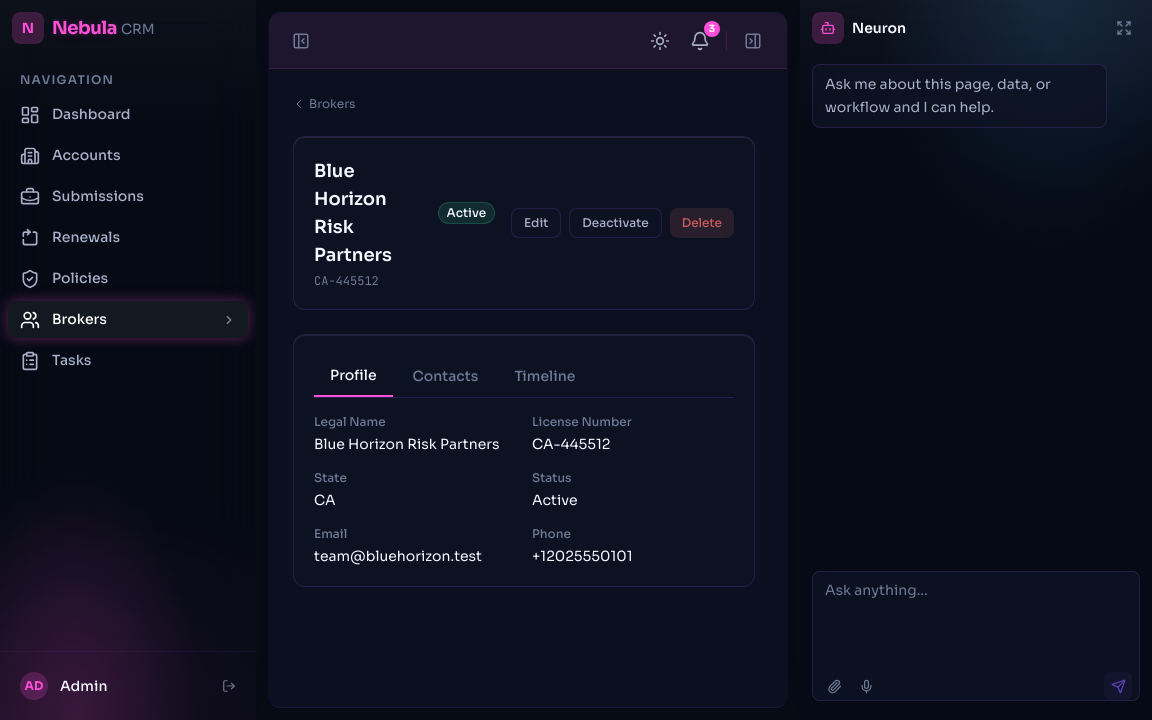
it: BrokerDetailPage integration › loads the broker profile and updates broker details from the edit modal
Expected: the heading "Blue Horizon Risk Partners" is shown, [314,160,392,266]
Expected: the text "CA-445512" is shown 2 times, [314,273,379,289]; [532,435,610,453]
Click the button "Edit" at (536, 223), box [511,208,561,238]
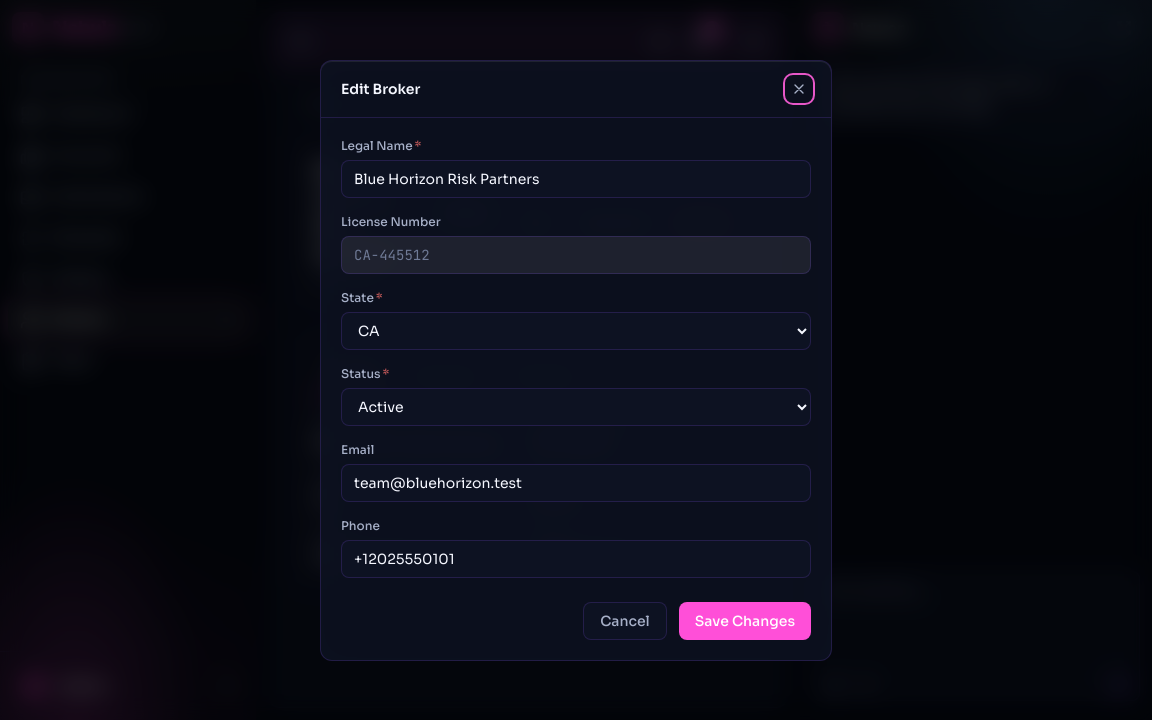
Result: the dialog "Edit Broker" is shown at [320,60,832,660]
Replace the text in the field labelled "Legal Name*" with "Blue Horizon Specialty" at (576, 178), box [341,160,811,198]
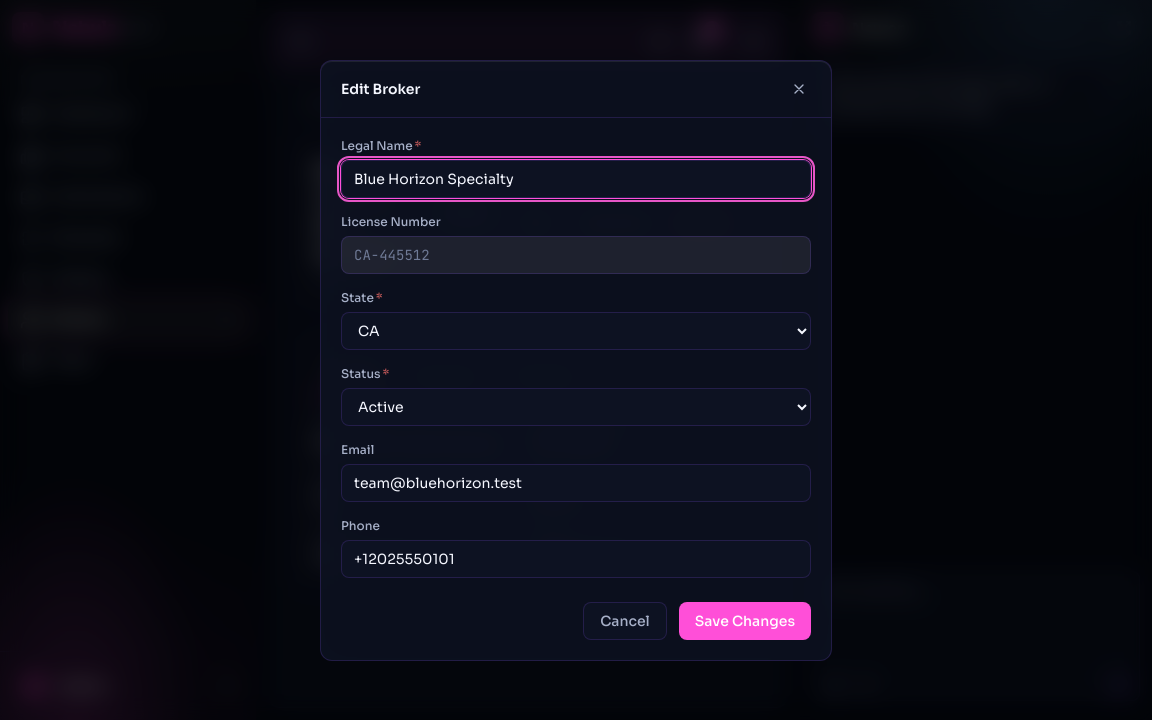
Select "NY" in the dropdown labelled "State*" at (576, 330), box [341,312,811,350]
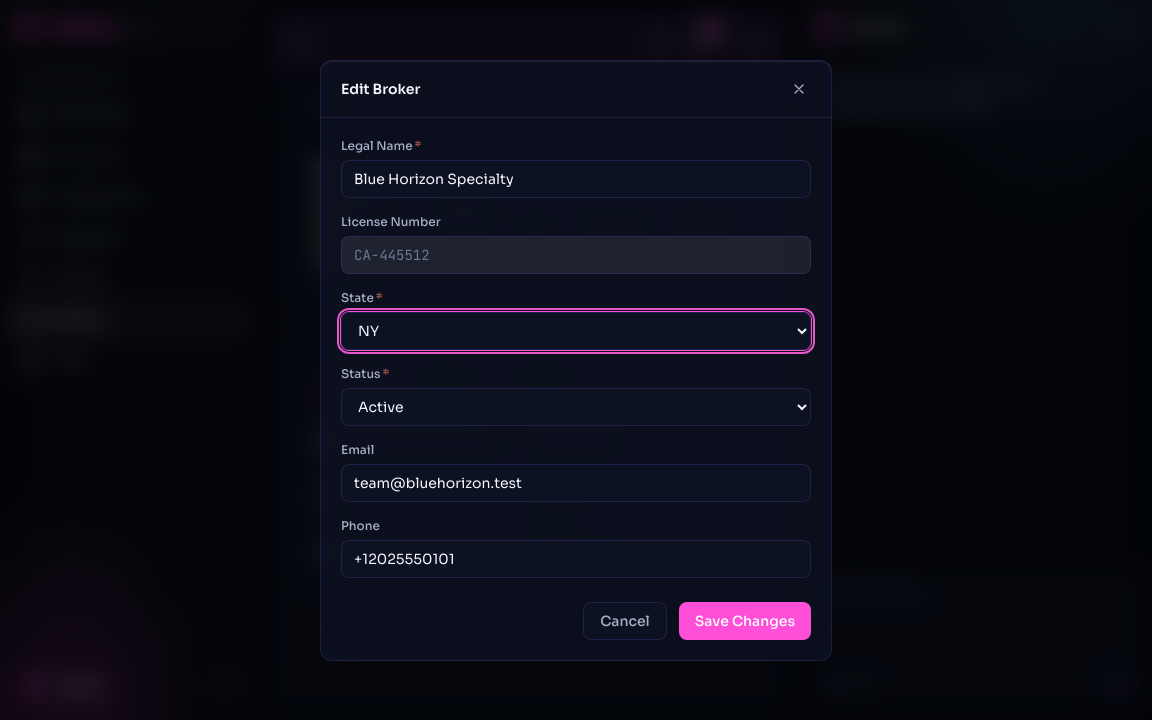
Select "Inactive" in the dropdown labelled "Status*" at (576, 406), box [341,388,811,426]
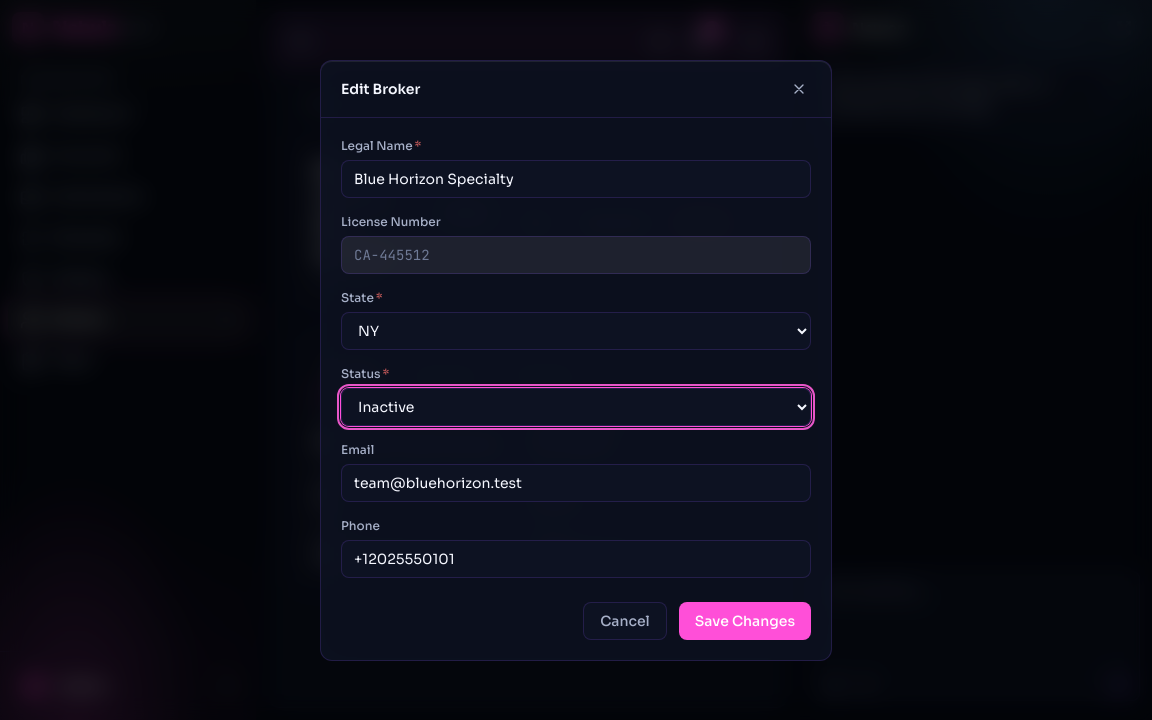
Click the button "Save Changes" at (745, 620), box [679,602,811,640]
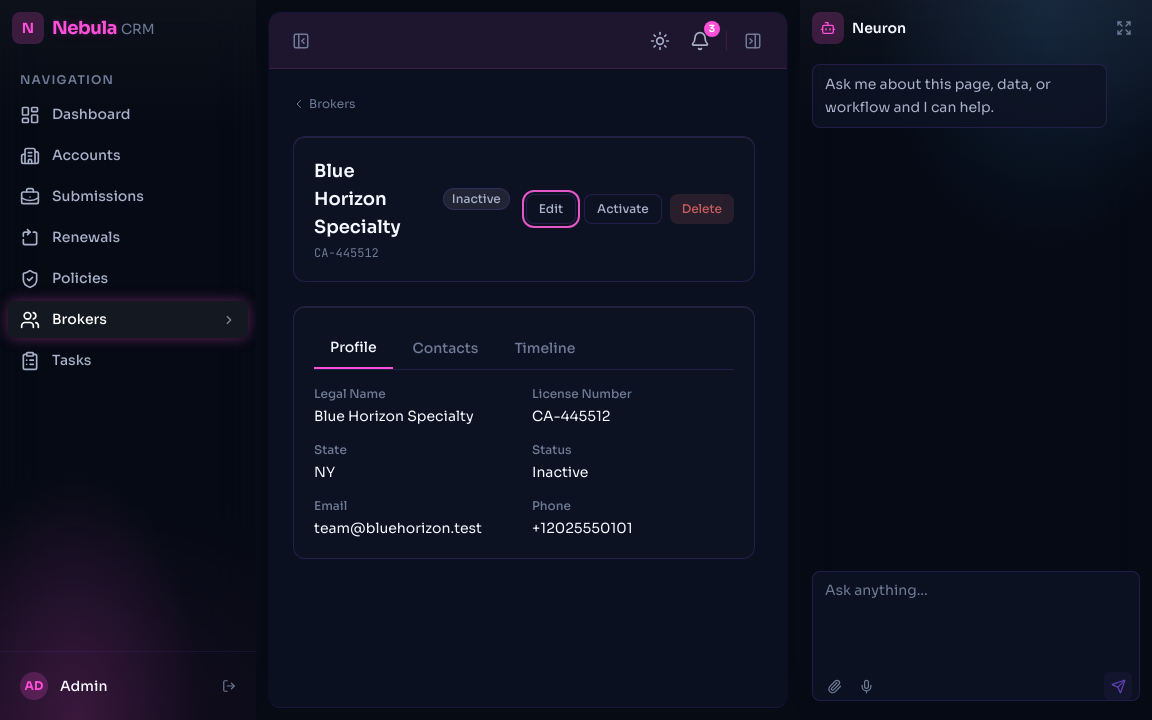
Expected: the text "Inactive" is shown 2 times, [443,188,510,210]; [532,463,588,481]
Result: the heading "Edit Broker" is gone
Result: the heading "Blue Horizon Specialty" is shown at [314,160,401,238]
